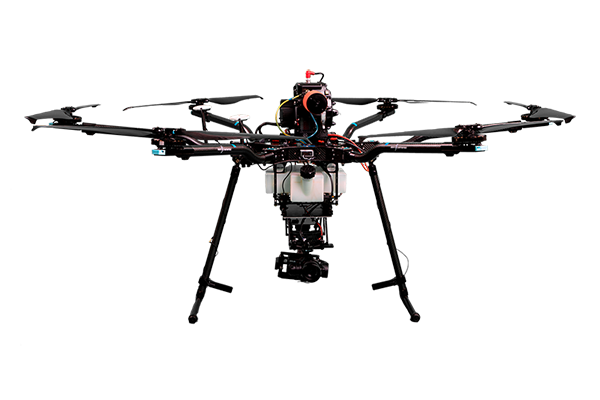drone: (19, 69, 579, 328)
